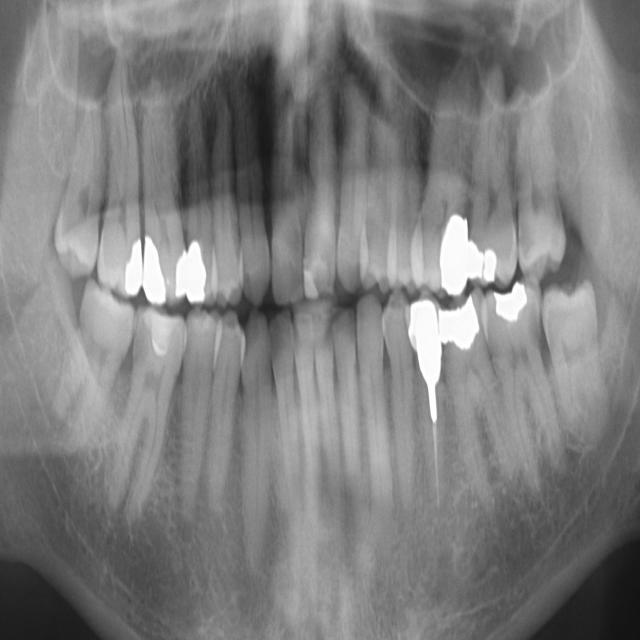infected-teeth: (405, 298, 452, 521)
